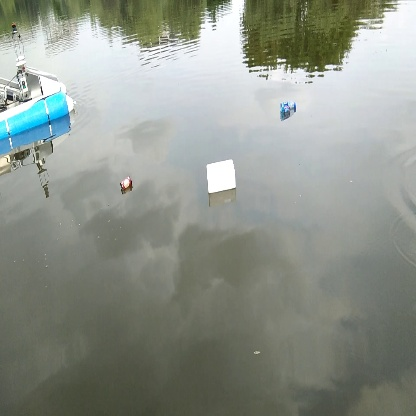bottle: (277, 98, 300, 118), (117, 173, 138, 194)
plastic-garbage: (203, 155, 241, 197)
